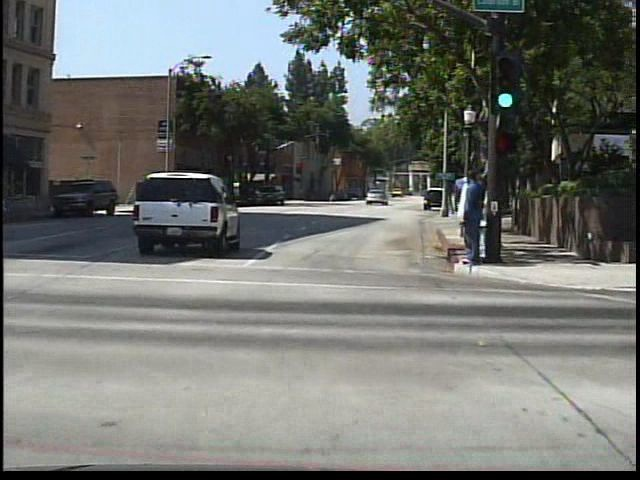person: (458, 169, 485, 269), (450, 173, 478, 269), (325, 187, 336, 203)
